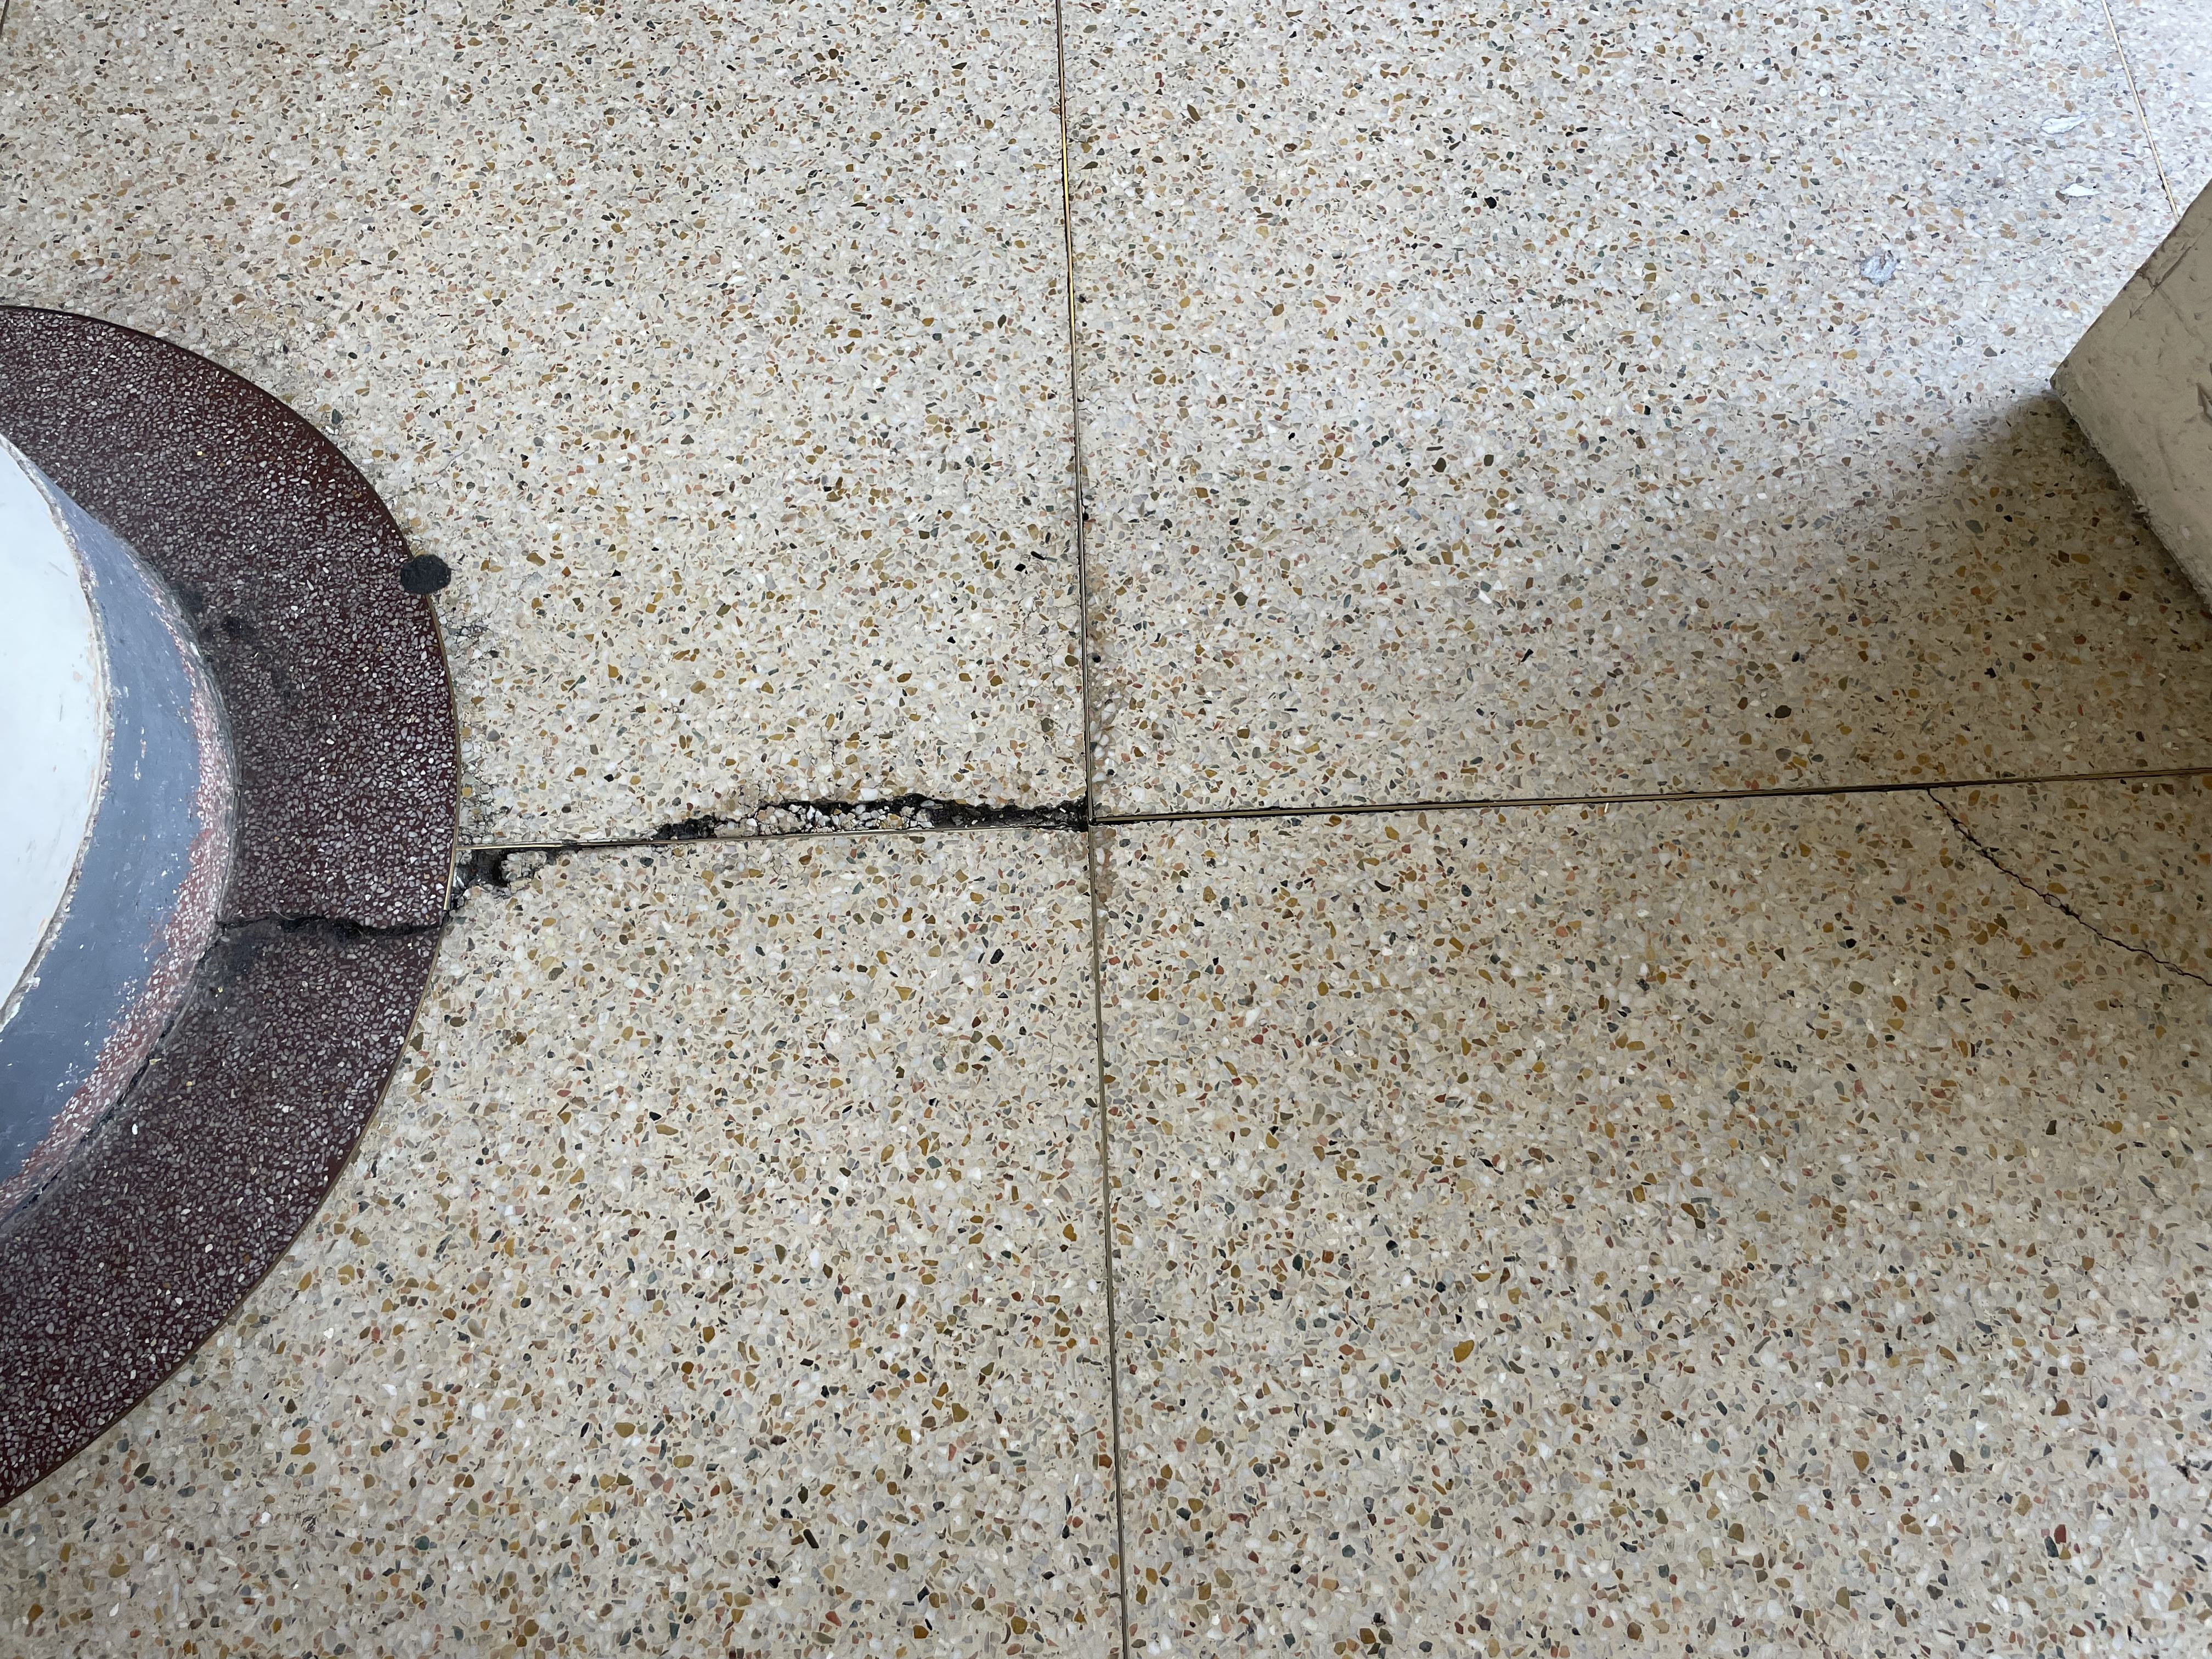Crack: (1925, 784, 2212, 986)
Spalling: (650, 791, 1092, 843), (448, 849, 566, 913), (214, 915, 437, 939)
